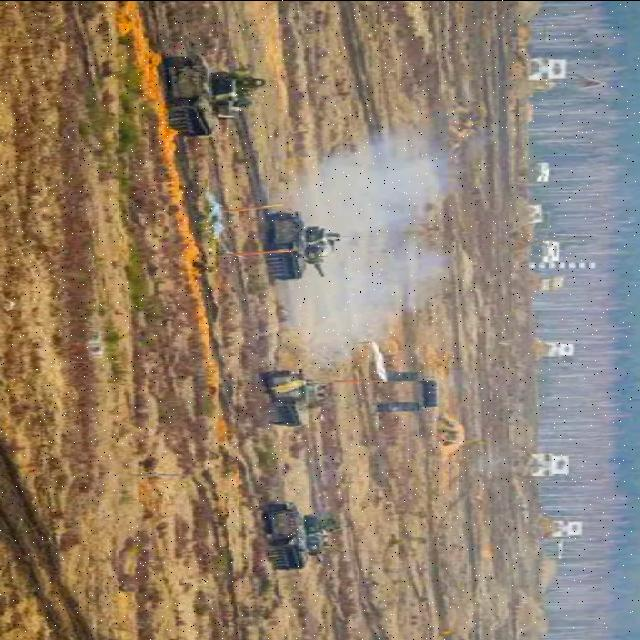APC-IFV: (260, 368, 334, 429)
TANK: (161, 52, 255, 142), (264, 500, 342, 574), (264, 210, 344, 282)
